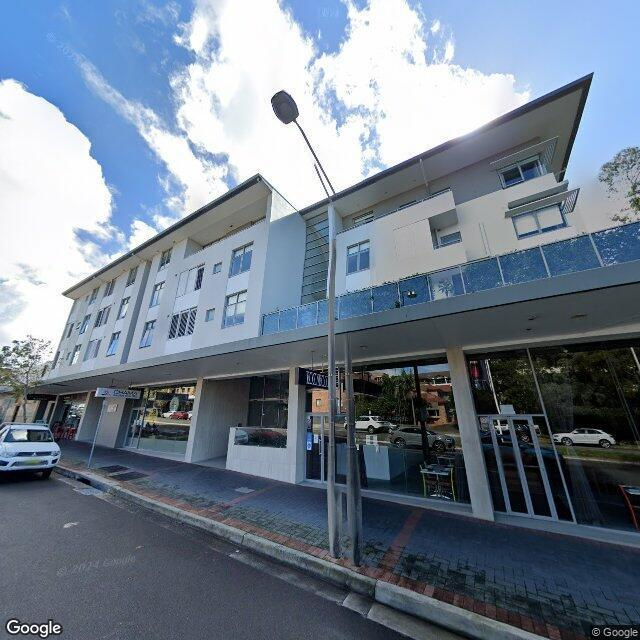steel-pole: (328, 196, 364, 568)
streetlight: (270, 88, 336, 204)
